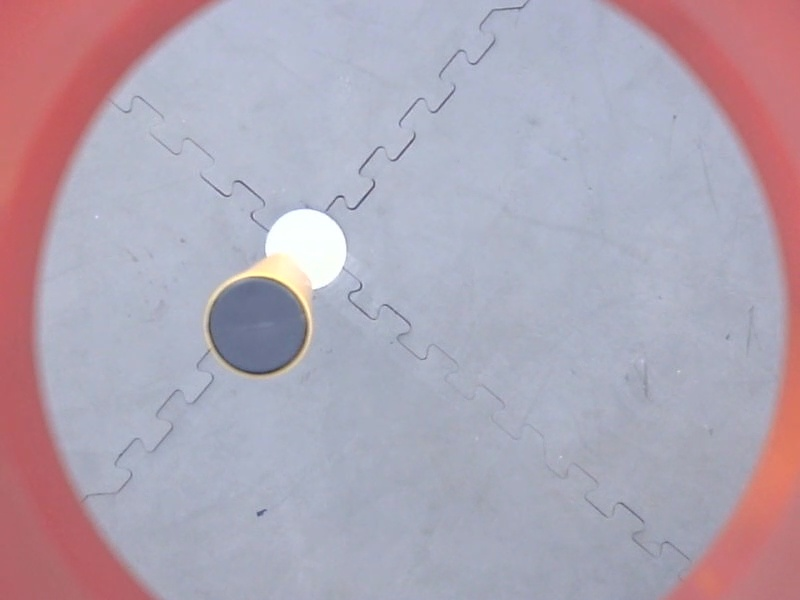tip: (198, 268, 316, 386)
